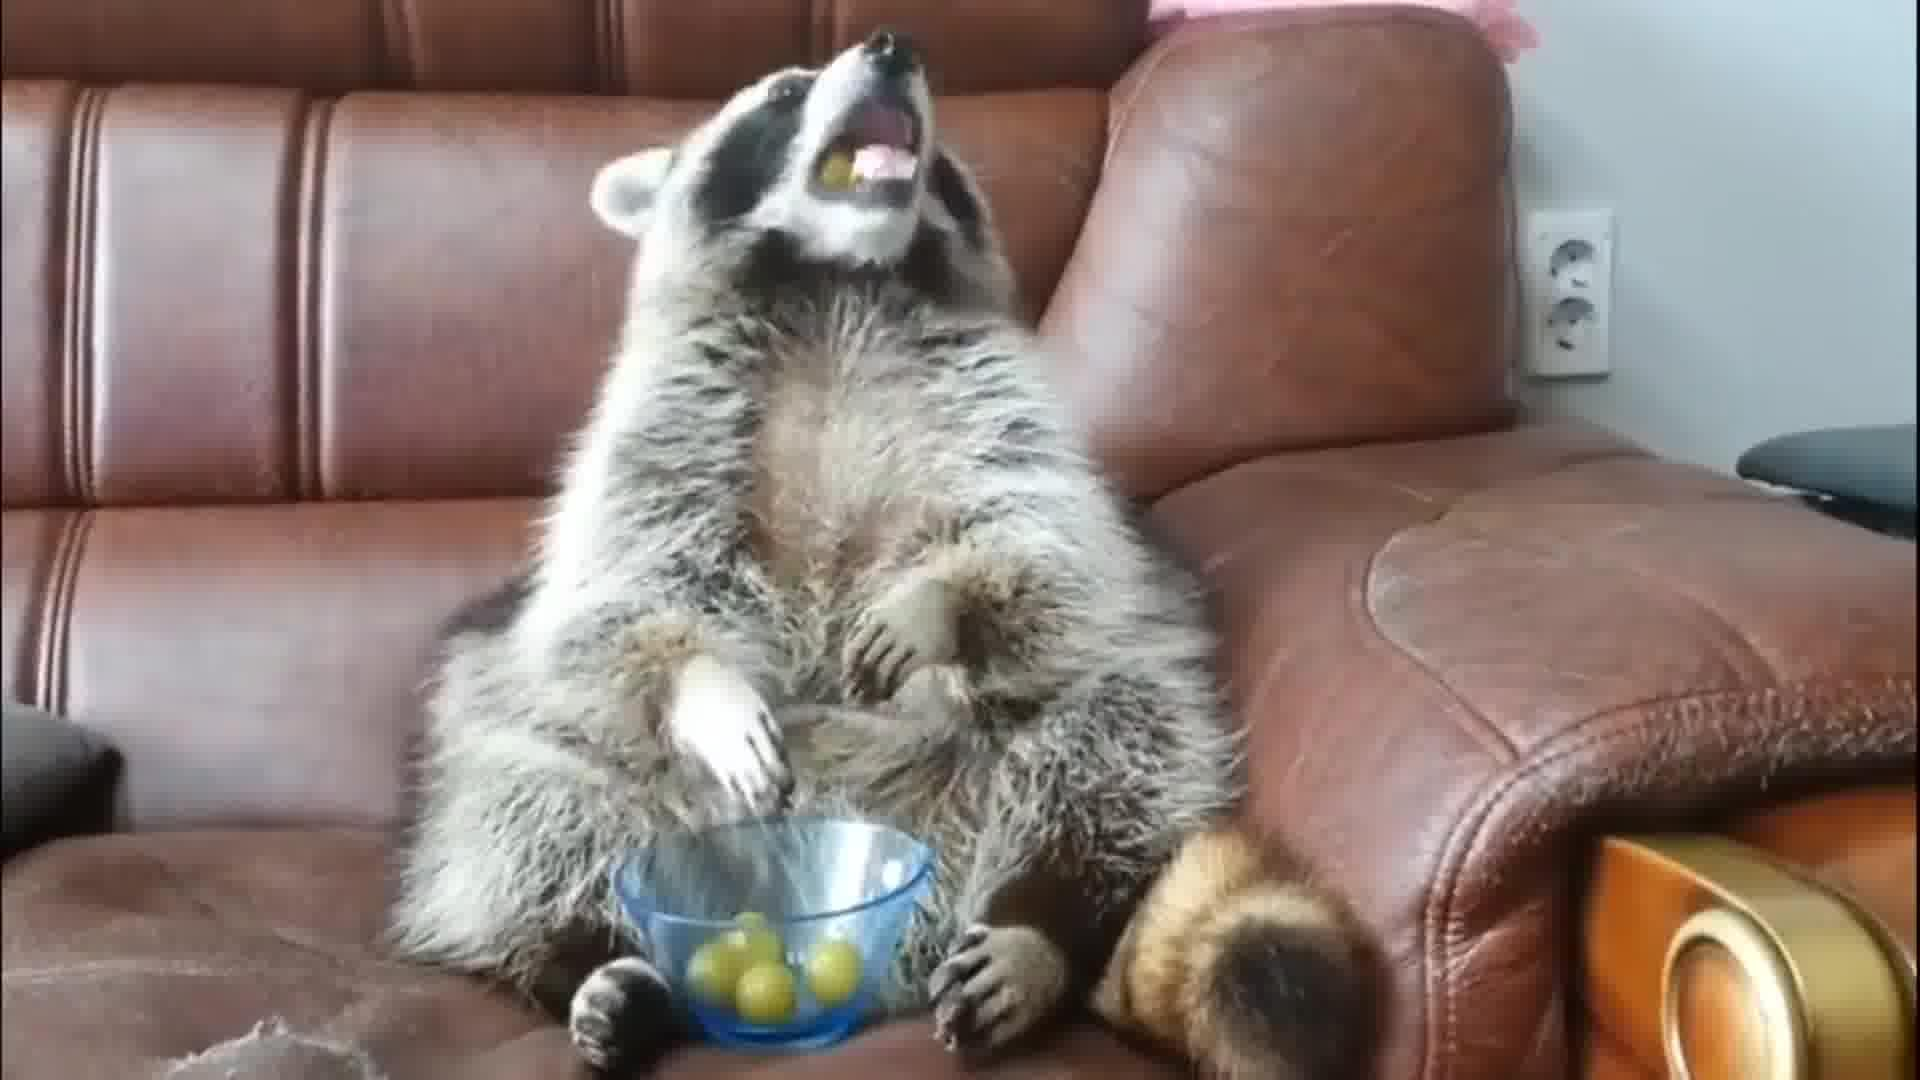raccoon: (400, 22, 1383, 1080)
